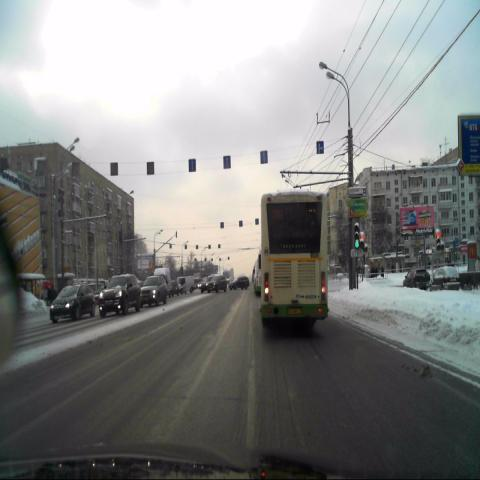5_15_2: (260, 150, 268, 163), (316, 140, 324, 153), (189, 159, 196, 172), (224, 155, 230, 168)
